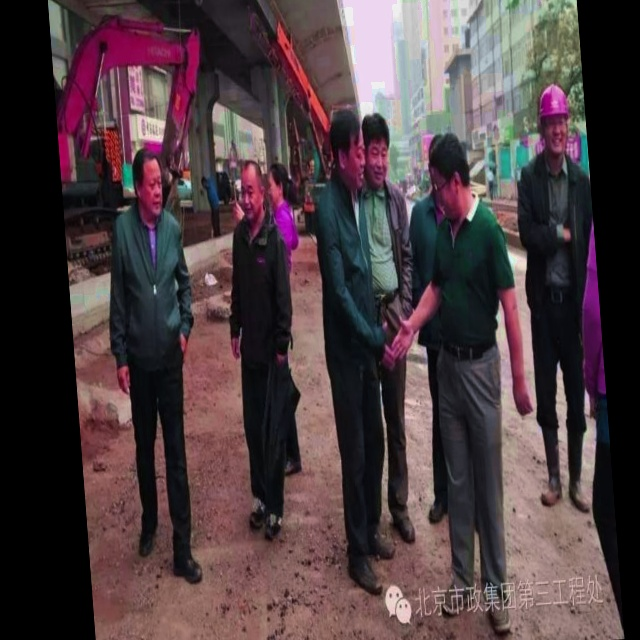Con_Casco: (538, 80, 570, 152)
Sin_Casco_Mascarrilla: (129, 145, 165, 220), (239, 159, 267, 223)
Sin_Chaleco: (431, 209, 516, 362), (313, 182, 379, 354)
